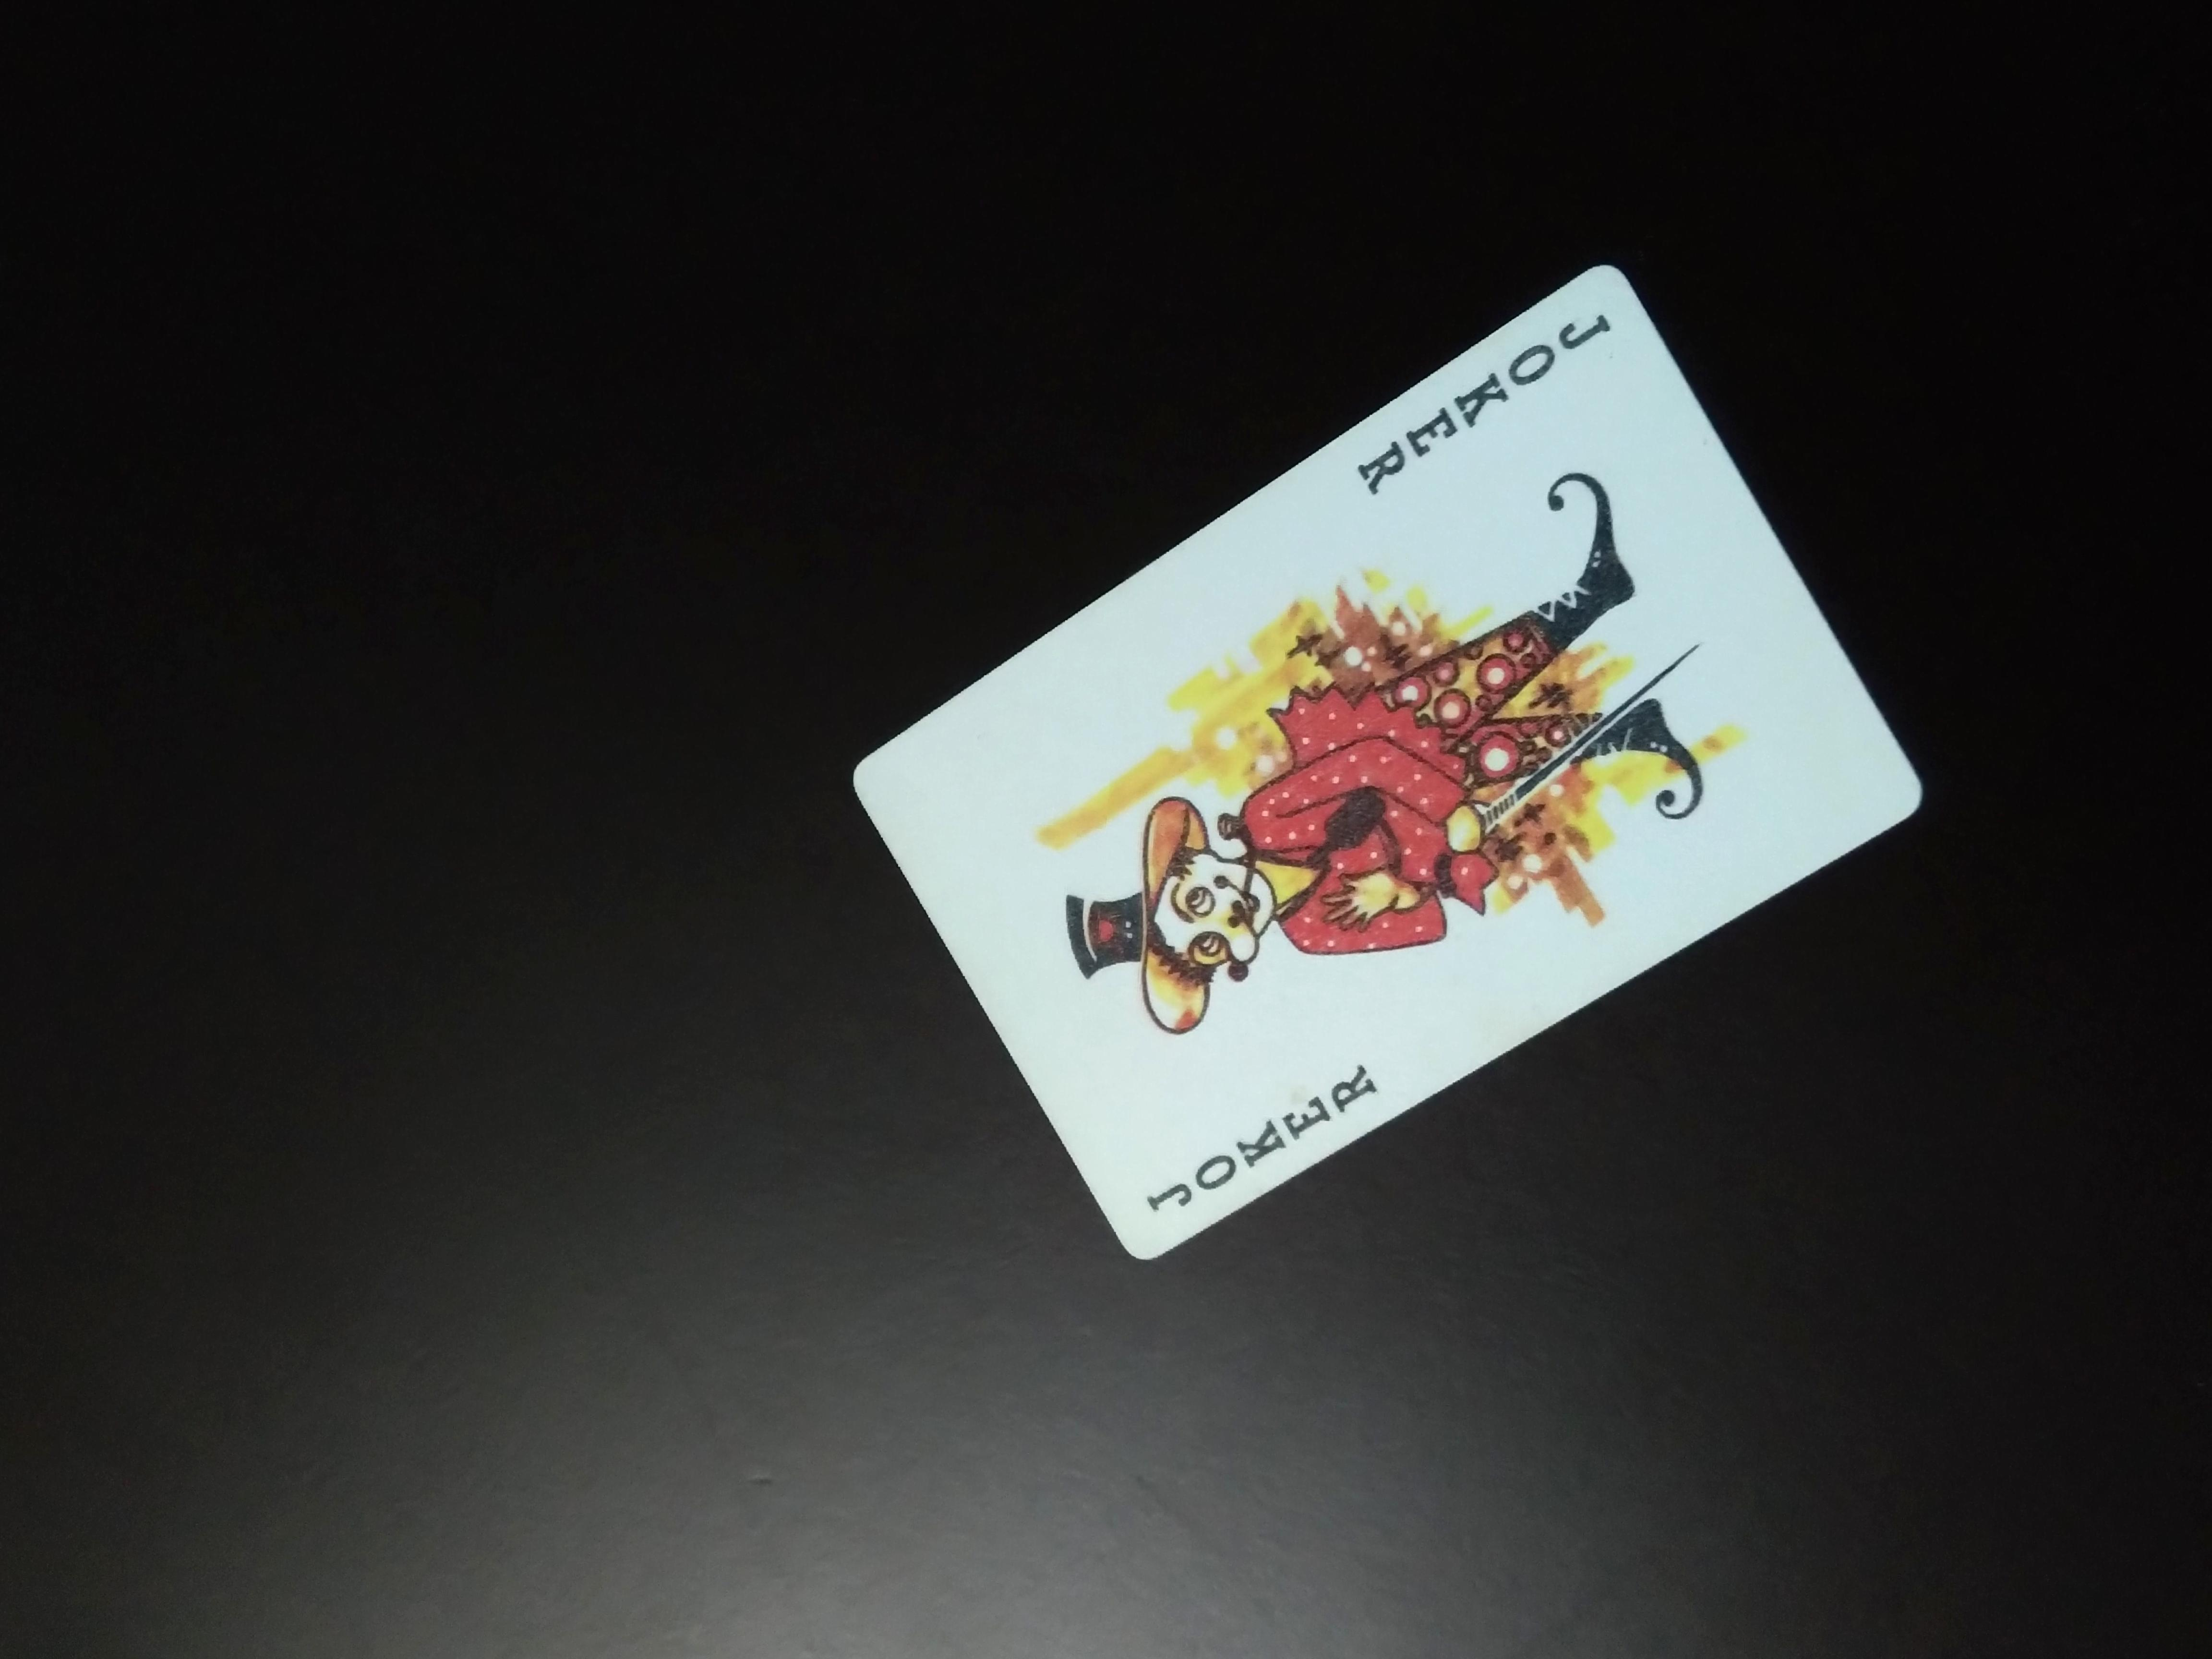JOKER: (1346, 305, 1634, 502)
